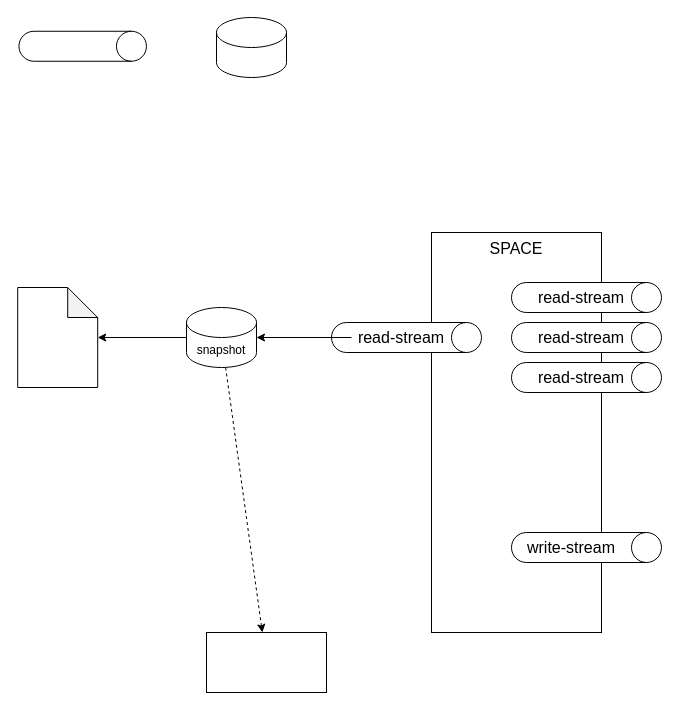
The diagram is 679 pixels wide and 710 high, and some of its shapes have lost their labels. The shapes that lost their labels are listed below. From the top down, each one's centre as x and y in pixels, then its label:
the point at 82,45: stream
the point at 251,47: state
the point at 57,337: render
the point at 266,662: LOCALDRIVE
